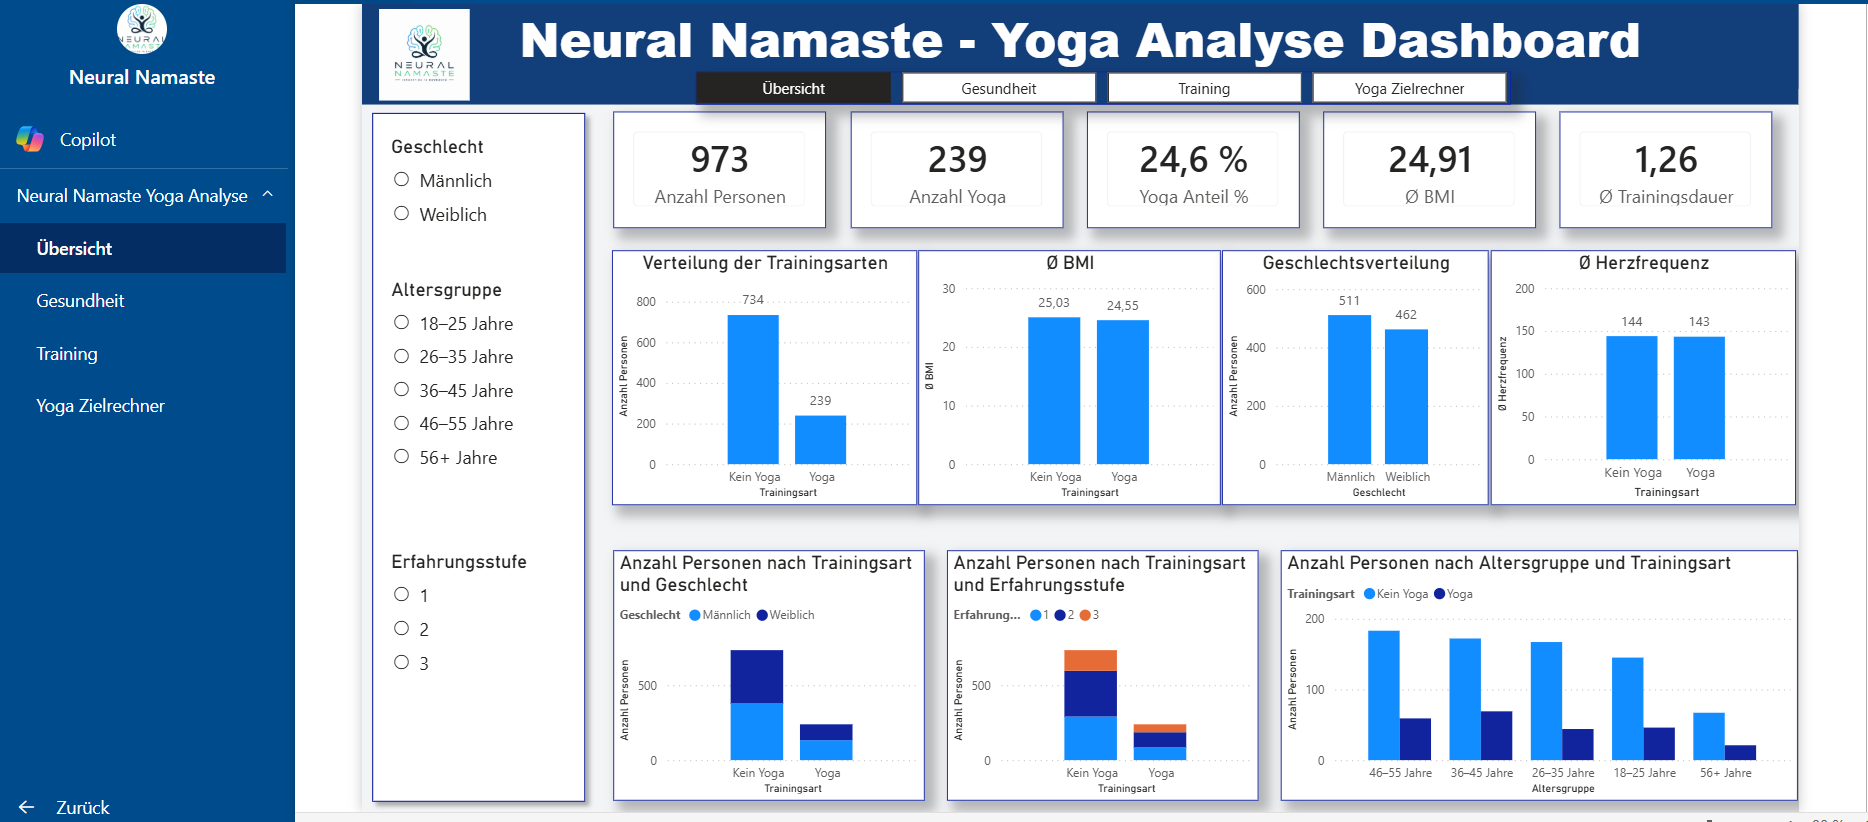

The dashboard page shown, as its layout file describes it:
{"tool":"powerbi","page":{"name":"Übersicht","canvas":[1280,720],"ordinal":0},"visuals":[{"type":"shape","title":" Neural Namaste - Yoga Analyse Dashboard ","box":[0,0,1280,90],"z":0},{"type":"shape","box":[0,88,208,632],"z":1000},{"type":"cardVisual","fields":{"Data":["M_Measures.Anzahl Personen"]},"box":[224.3,95.7,189.3,103.9],"z":2000},{"type":"cardVisual","fields":{"Data":["M_Measures.Yoga Anteil %"]},"box":[645.7,95.7,189.3,103.9],"z":3000},{"type":"cardVisual","fields":{"Data":["M_Measures.Ø BMI"]},"box":[856.3,95.7,189.3,103.9],"z":4000},{"type":"cardVisual","fields":{"Data":["M_Measures.Ø Trainingsdauer"]},"box":[1067,95.7,189.3,103.9],"z":5000},{"type":"clusteredColumnChart","title":"Verteilung der Trainingsarten","fields":{"Y":["M_Measures.Anzahl Personen"],"Category":["D_Trainingsart.Trainingsart"]},"box":[222.3,219.2,271.6,227.4],"z":6000},{"type":"image","box":[0,4.1,111.1,81.3],"z":7000},{"type":"clusteredColumnChart","title":"Ø BMI","fields":{"Category":["D_Trainingsart.Trainingsart"],"Y":["M_Measures.Ø BMI"]},"box":[495.6,219.2,269.6,227.4],"z":8000},{"type":"clusteredColumnChart","title":"Geschlechtsverteilung","fields":{"Category":["D_Geschlecht.Geschlecht"],"Y":["M_Measures.Anzahl Personen"]},"box":[766.9,219.2,237.7,227.4],"z":9000},{"type":"clusteredColumnChart","title":"Ø Herzfrequenz ","fields":{"Category":["D_Trainingsart.Trainingsart"],"Y":["M_Measures.Ø Herzfrequenz"]},"box":[1006.3,219.2,271.6,227.4],"z":10000},{"type":"columnChart","fields":{"Category":["D_Trainingsart.Trainingsart"],"Series":["D_Geschlecht.Geschlecht"],"Y":["M_Measures.Anzahl Personen"]},"box":[224.3,486.7,277.8,223.3],"z":11000},{"type":"columnChart","fields":{"Category":["D_Trainingsart.Trainingsart"],"Series":["D_Erfahrungsstufe.Erfahrungsstufe"],"Y":["M_Measures.Anzahl Personen"]},"box":[521.7,486.7,277.8,223.3],"z":12000},{"type":"clusteredColumnChart","fields":{"Category":["D_Alter.Altersgruppe"],"Y":["M_Measures.Anzahl Personen"],"Series":["D_Trainingsart.Trainingsart"]},"box":[819,486.7,461,223.3],"z":13000},{"type":"cardVisual","fields":{"Data":["M_Measures.Anzahl Yoga"]},"box":[435,95.7,189.3,103.9],"z":14000},{"type":"listSlicer","fields":{"Values":["D_Geschlecht.Geschlecht"]},"box":[21.6,117.3,148.2,111.1],"z":15000},{"type":"listSlicer","fields":{"Values":["D_Alter.Altersgruppe"]},"box":[21.6,243.9,159.5,202.7],"z":16000},{"type":"listSlicer","fields":{"Values":["F_Training.Erfahrungsstufe"]},"box":[21.6,486.7,164.6,156.4],"z":17000},{"type":"pageNavigator","box":[297,60,726.6,30],"z":17501}]}

Visuals, with their boxes on the page's 1280x720 design canvas (x1, y1, x2, y2). These are canvas units, not pixel positions in the 1868x822 screenshot, which may show the page scaled, cropped or inside an application window:
" Neural Namaste - Yoga Analyse Dashboard " shape: Rect(0, 0, 1280, 90)
shape: Rect(0, 88, 208, 720)
cardVisual - M_Measures.Anzahl Personen: Rect(224, 96, 414, 200)
cardVisual - M_Measures.Yoga Anteil %: Rect(646, 96, 835, 200)
cardVisual - M_Measures.Ø BMI: Rect(856, 96, 1046, 200)
cardVisual - M_Measures.Ø Trainingsdauer: Rect(1067, 96, 1256, 200)
"Verteilung der Trainingsarten" clusteredColumnChart: Rect(222, 219, 494, 447)
image: Rect(0, 4, 111, 85)
"Ø BMI" clusteredColumnChart: Rect(496, 219, 765, 447)
"Geschlechtsverteilung" clusteredColumnChart: Rect(767, 219, 1005, 447)
"Ø Herzfrequenz " clusteredColumnChart: Rect(1006, 219, 1278, 447)
columnChart - D_Trainingsart.Trainingsart x D_Geschlecht.Geschlecht: Rect(224, 487, 502, 710)
columnChart - D_Trainingsart.Trainingsart x D_Erfahrungsstufe.Erfahrungsstufe: Rect(522, 487, 800, 710)
clusteredColumnChart - D_Alter.Altersgruppe x M_Measures.Anzahl Personen: Rect(819, 487, 1280, 710)
cardVisual - M_Measures.Anzahl Yoga: Rect(435, 96, 624, 200)
listSlicer - D_Geschlecht.Geschlecht: Rect(22, 117, 170, 228)
listSlicer - D_Alter.Altersgruppe: Rect(22, 244, 181, 447)
listSlicer - F_Training.Erfahrungsstufe: Rect(22, 487, 186, 643)
pageNavigator: Rect(297, 60, 1024, 90)
